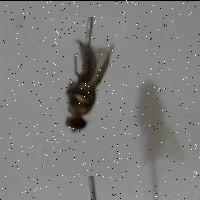Oriental-fruit-fly: (42, 16, 127, 175)
